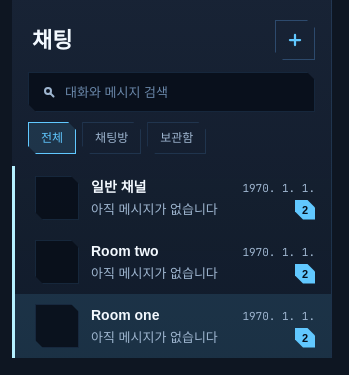
Test case: ChatListColumn context menu › keeps the newly targeted menu focused after the old menu finishes closing
The image size is (349, 375).
Right-click the button with test id "chat-list-row" that starts with "Room two" at (57, 262), box [12, 230, 331, 294]
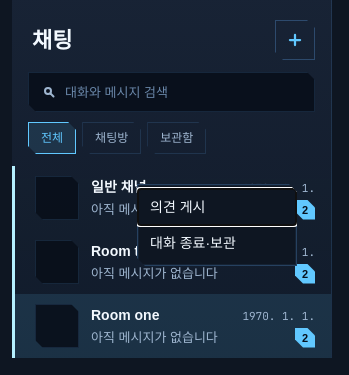
Expected: the menu item with test id "room-archive-open" is shown, [138, 225, 296, 261]
Right-click the button with test id "chat-list-row" that starts with "일반 채널" at (57, 198), box [12, 166, 331, 230]
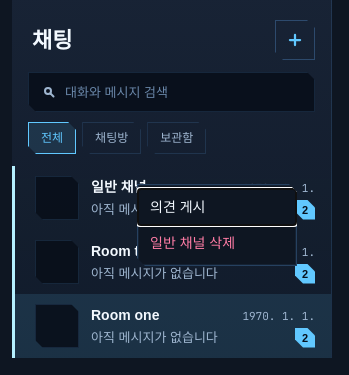
Expected: the menu item with test id "room-archive-open" is gone
